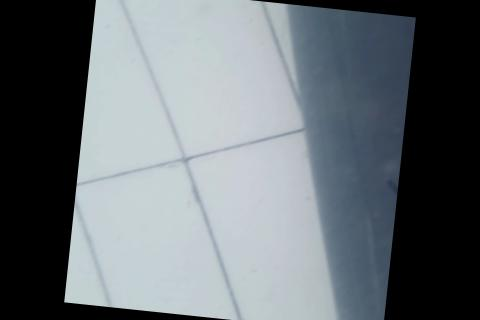keretakan: (380, 178, 399, 219)
